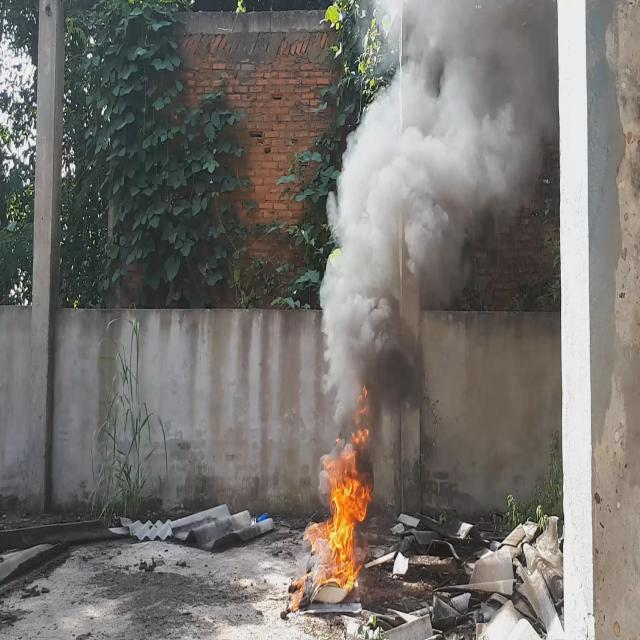Fire: (308, 436, 378, 594)
Smoke: (319, 0, 525, 454)
